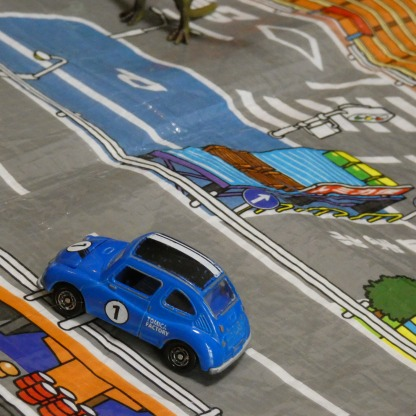car: (40, 225, 249, 380)
